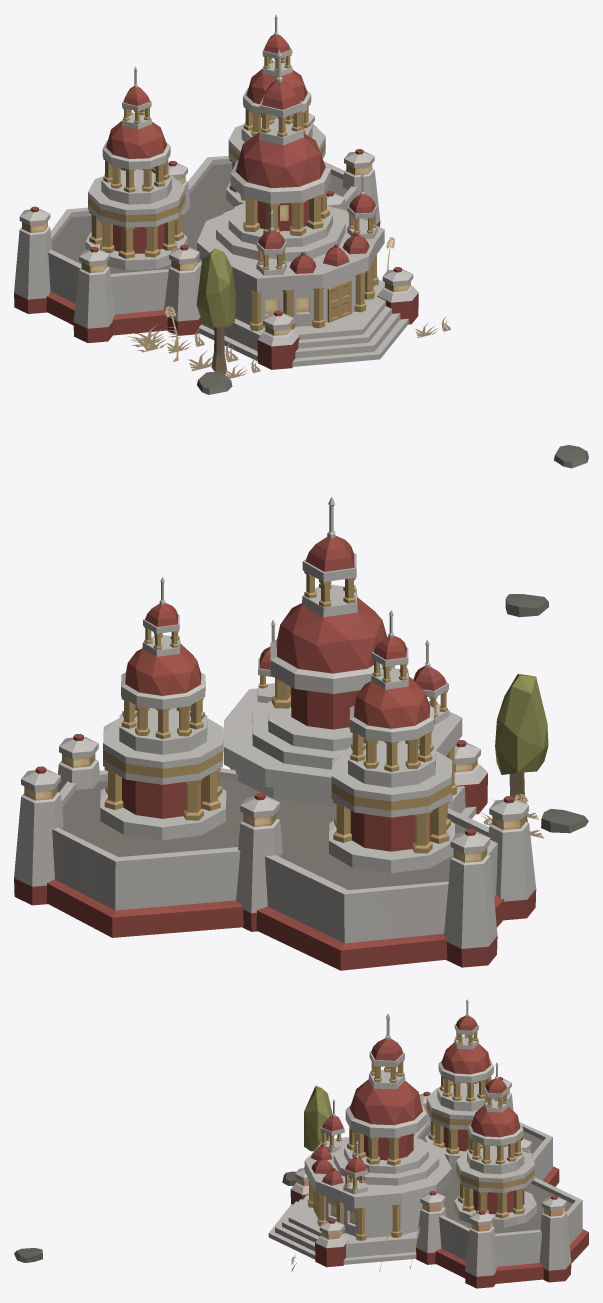
Rendered from townPlains1.fbx.
3 views of the same model, one above another, from view 1: azimuth 30°, elevation 25°; view 2: azimuth 150°, elevation 25°; view 3: azimuth 270°, elevation 25° (orthographic). The views are drawn at different scales.
Parts seen in each view (by area): view 1: townPlains1; view 2: townPlains1; view 3: townPlains1.
Part boxes in pixels (<box>): townPlains1: <box>14,14,588,468</box>; townPlains1: <box>14,497,588,970</box>; townPlains1: <box>14,999,588,1288</box>.
Bounding box in the file's own units: 5.94 × 4.37 × 10.44.
Materials: 3 (3 with a texture image).
